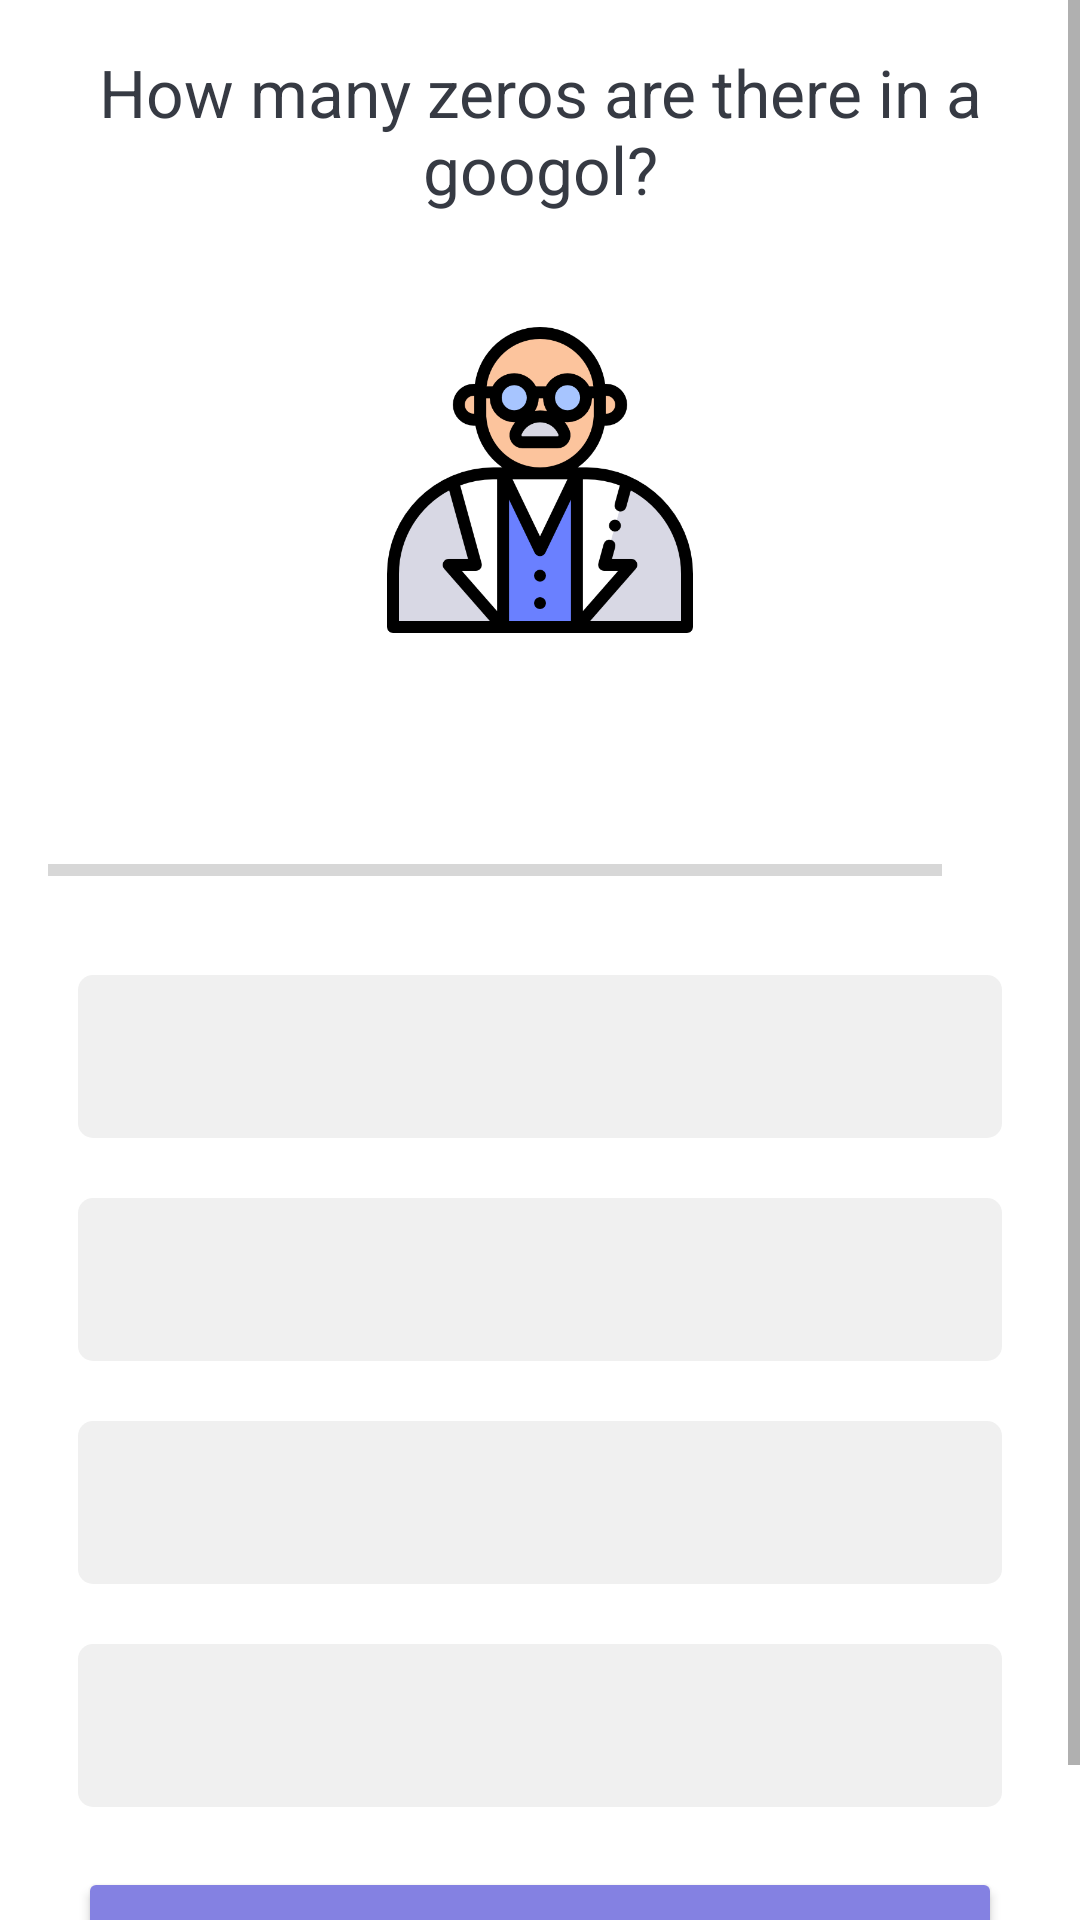

Icons on this 1080px×1920px Android screen, each with its box as (x1=x1, y1=y1, x2=x2, y2=y2):
scientist: (x1=387, y1=327, x2=693, y2=633)
